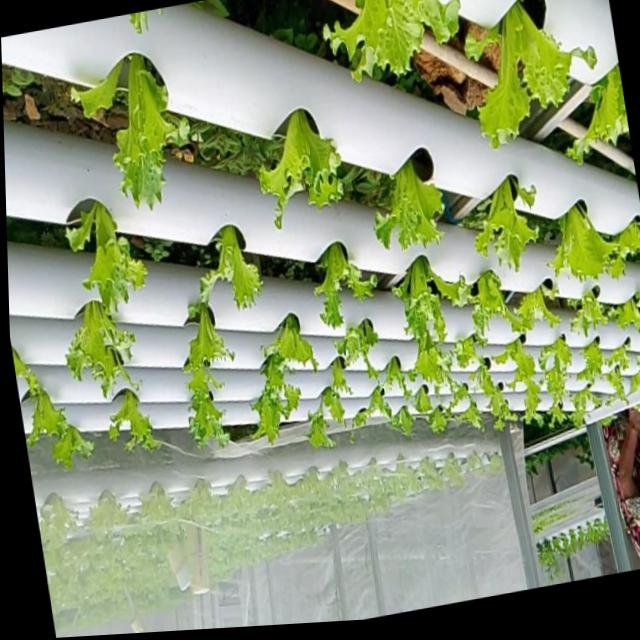Baby: (467, 4, 598, 150), (116, 53, 190, 209), (325, 0, 462, 81), (260, 108, 344, 227), (69, 200, 149, 312), (185, 292, 235, 445), (375, 147, 446, 247), (69, 299, 138, 396), (476, 174, 540, 269), (550, 203, 618, 284), (316, 240, 378, 326), (460, 268, 534, 339), (202, 223, 263, 308), (254, 353, 301, 441), (25, 371, 73, 444), (336, 317, 395, 375), (264, 312, 320, 368), (112, 387, 162, 449), (540, 334, 574, 420), (410, 329, 454, 391), (572, 387, 603, 426), (581, 340, 606, 383), (456, 335, 481, 368), (607, 365, 629, 401), (452, 380, 474, 410)
